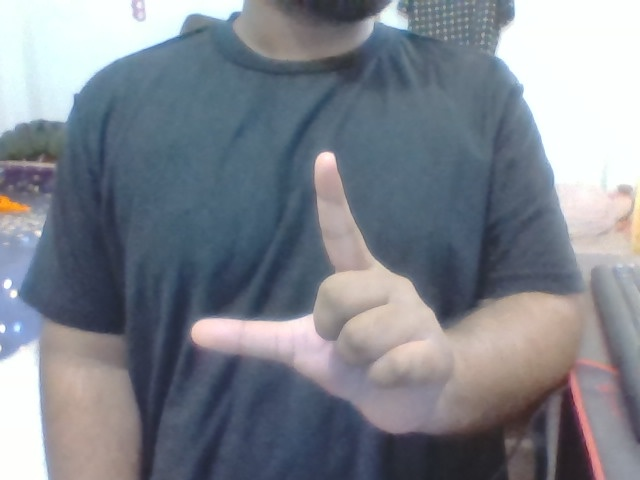L: (158, 144, 470, 434)
